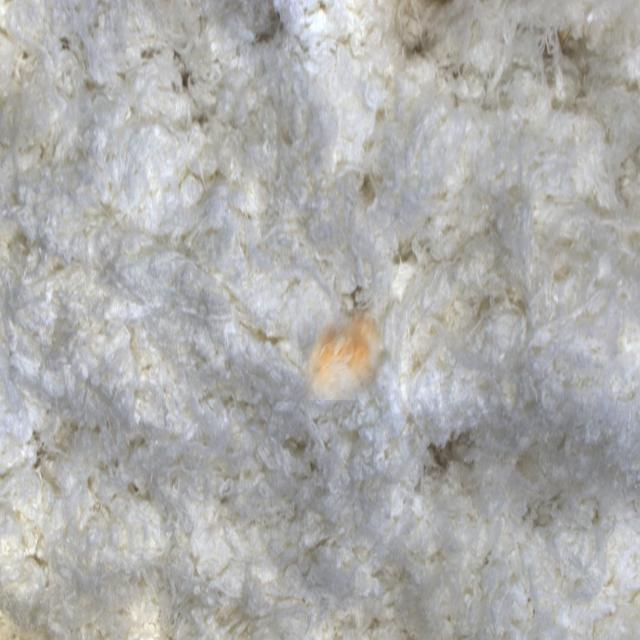dust: (298, 309, 384, 400)
